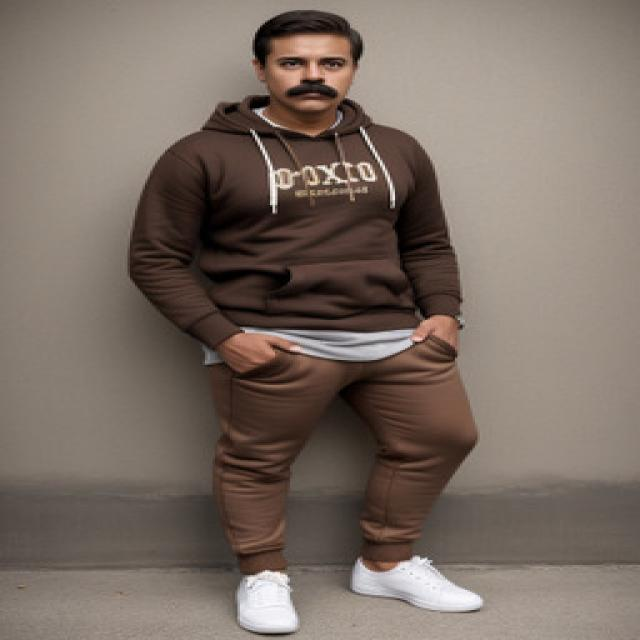Ai human 2: (125, 1, 525, 640)
